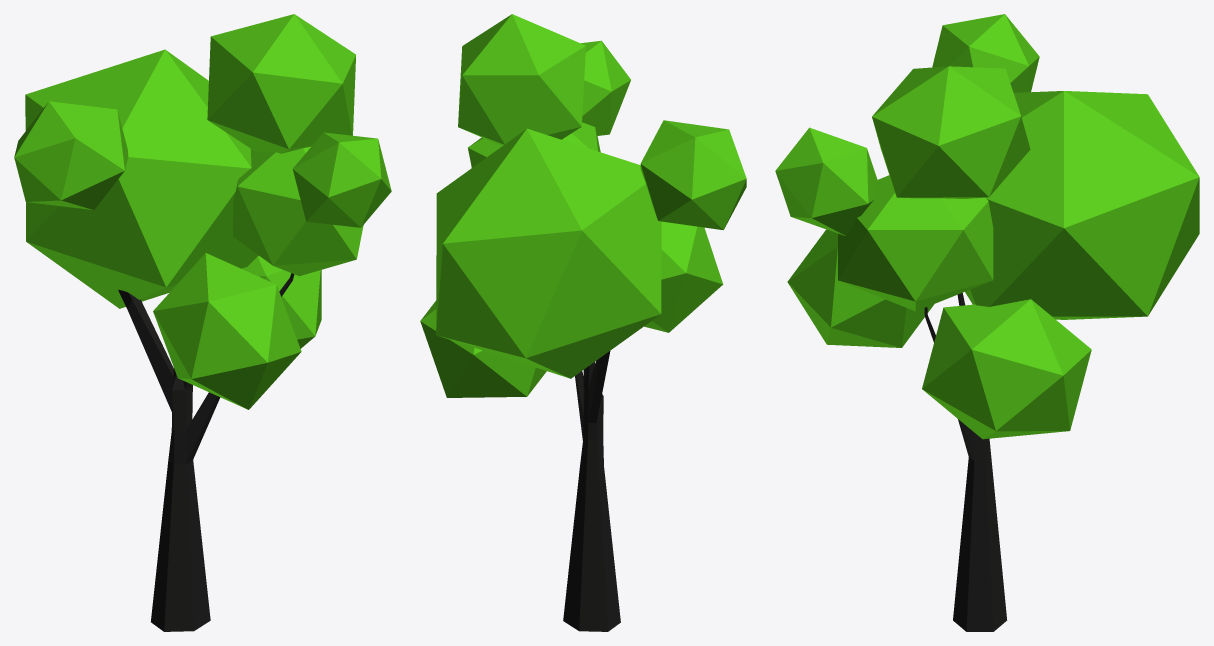
The model's file is tree2.fbx.
3 renders of one model, left to right at view 1: azimuth 30°, elevation 25°; view 2: azimuth 150°, elevation 25°; view 3: azimuth 270°, elevation 25°, orthographic. The views are drawn at different scales.
Parts seen in each view (by area): view 1: Icosphere.020, Icosphere.024, Icosphere.026, Cylinder.003, Icosphere.025, Icosphere.021, Icosphere.023, Icosphere.022; view 2: Icosphere.020, Icosphere.024, Cylinder.003, Icosphere.025, Icosphere.022, Icosphere.026, Icosphere.023, Icosphere.021; view 3: Icosphere.020, Icosphere.022, Icosphere.024, Icosphere.021, Cylinder.003, Icosphere.026, Icosphere.023, Icosphere.025.
Boxes of the visible parts, x1,y1,x2,y2 form: Icosphere.020: [25, 49, 258, 308]; Icosphere.024: [207, 14, 355, 153]; Icosphere.026: [153, 253, 301, 409]; Cylinder.003: [118, 273, 294, 631]; Icosphere.025: [14, 101, 128, 209]; Icosphere.021: [233, 147, 363, 276]; Icosphere.023: [292, 132, 391, 227]; Icosphere.022: [241, 256, 321, 348]; Icosphere.020: [436, 128, 661, 378]; Icosphere.024: [458, 14, 585, 145]; Cylinder.003: [563, 351, 620, 631]; Icosphere.025: [640, 120, 746, 230]; Icosphere.022: [420, 300, 546, 397]; Icosphere.026: [644, 221, 723, 332]; Icosphere.023: [581, 40, 630, 135]; Icosphere.021: [468, 122, 600, 167]; Icosphere.020: [965, 91, 1199, 319]; Icosphere.022: [922, 299, 1091, 439]; Icosphere.024: [872, 66, 1030, 198]; Icosphere.021: [838, 175, 993, 311]; Cylinder.003: [924, 293, 1007, 631]; Icosphere.026: [787, 229, 934, 347]; Icosphere.023: [775, 127, 877, 235]; Icosphere.025: [932, 14, 1039, 92].
Bounding box in the file's own units: 243 × 433 × 276.
